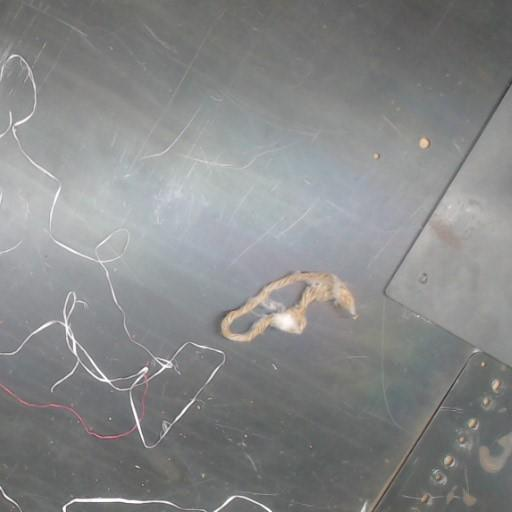jute: (220, 272, 356, 342)
thread: (0, 54, 225, 448), (61, 497, 211, 511), (211, 494, 273, 511), (0, 484, 22, 511)
